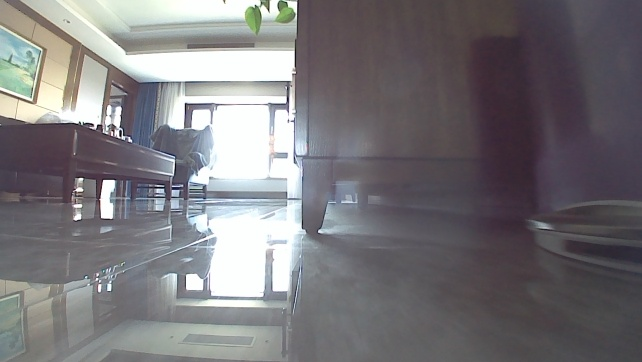tea_table: (0, 120, 179, 203)
